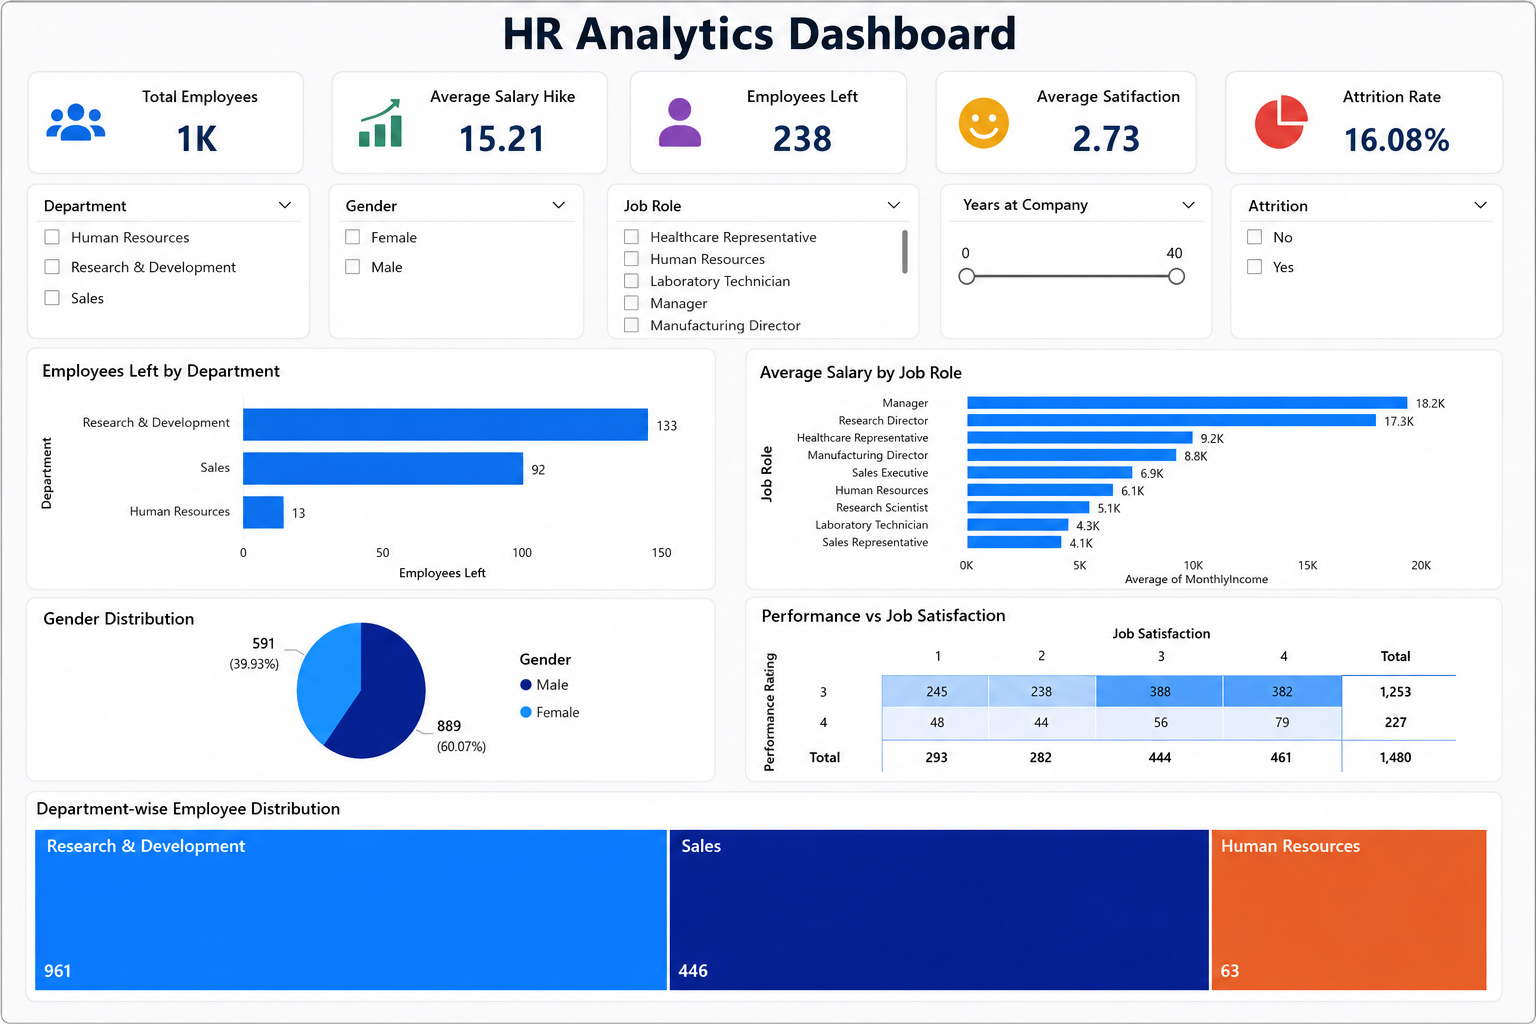

The dashboard page shown, as its layout file describes it:
{"tool":"powerbi","page":{"name":"Page 1","canvas":[1280,720],"ordinal":0},"visuals":[{"type":"cardVisual","fields":{"Data":["HR_Analytics.Total Employees"]},"box":[0,49.4,178.4,111.2],"z":0},{"type":"cardVisual","fields":{"Data":["HR_Analytics.Employees Left"]},"box":[496.8,35.7,167.4,151],"z":1000},{"type":"cardVisual","fields":{"Data":["HR_Analytics.Attrition Rate"]},"box":[1064.9,49.4,178.4,111.2],"z":2000},{"type":"cardVisual","fields":{"Data":["HR_Analytics.Average Salary Hike"]},"box":[233.3,24.7,201.7,161.9],"z":3000},{"type":"cardVisual","fields":{"Data":["HR_Analytics.Average Satisfaction"]},"box":[798.7,28.8,188,163.3],"z":4000},{"type":"clusteredBarChart","fields":{"Category":["HR_Analytics.Department"],"Y":["HR_Analytics.Employees Left"]},"box":[0,288.2,472.1,151],"z":5000},{"type":"pieChart","fields":{"Category":["HR_Analytics.Gender"],"Y":["Sum(HR_Analytics.EmployeeCount)"]},"box":[0,429.5,466.6,181.1],"z":6000},{"type":"pivotTable","fields":{"Rows":["HR_Analytics.PerformanceRating"],"Columns":["HR_Analytics.JobSatisfaction"],"Values":["Sum(HR_Analytics.EmployeeCount)"]},"box":[464.8,451.5,310.1,111.2],"z":7000},{"type":"treemap","fields":{"Values":["Sum(HR_Analytics.EmployeeCount)"],"Group":["HR_Analytics.Department"]},"box":[8.2,568.1,1272.1,152.3],"z":8000},{"type":"clusteredBarChart","fields":{"Y":["Avg(HR_Analytics.MonthlyIncome)"],"Category":["HR_Analytics.JobRole"]},"box":[775.4,274.5,505,288.2],"z":9000},{"type":"slicer","fields":{"Values":["HR_Analytics.Department"]},"box":[22,171.5,234.7,116.6],"z":10000},{"type":"slicer","fields":{"Values":["HR_Analytics.Gender"]},"box":[271.7,171.5,108.4,89.2],"z":11000},{"type":"slicer","fields":{"Values":["HR_Analytics.JobRole"]},"box":[462.5,160.6,234.7,289.6],"z":12000},{"type":"slicer","fields":{"Values":["HR_Analytics.YearsAtCompany"]},"box":[798.7,171.5,188,102.9],"z":13000},{"type":"slicer","fields":{"Values":["HR_Analytics.Attrition"]},"box":[1089.6,160.6,102.9,90.6],"z":14000},{"type":"textbox","box":[236,24.7,791.8,49.4],"z":14001}]}

Visuals, with their boxes on the page's 1280x720 design canvas (x1, y1, x2, y2). These are canvas units, not pixel positions in the 1536x1024 screenshot, which may show the page scaled, cropped or inside an application window:
cardVisual - HR_Analytics.Total Employees: bbox=(0, 49, 178, 161)
cardVisual - HR_Analytics.Employees Left: bbox=(497, 36, 664, 187)
cardVisual - HR_Analytics.Attrition Rate: bbox=(1065, 49, 1243, 161)
cardVisual - HR_Analytics.Average Salary Hike: bbox=(233, 25, 435, 187)
cardVisual - HR_Analytics.Average Satisfaction: bbox=(799, 29, 987, 192)
clusteredBarChart - HR_Analytics.Department x HR_Analytics.Employees Left: bbox=(0, 288, 472, 439)
pieChart - HR_Analytics.Gender x Sum(HR_Analytics.EmployeeCount): bbox=(0, 430, 467, 611)
pivotTable - HR_Analytics.PerformanceRating x HR_Analytics.JobSatisfaction: bbox=(465, 452, 775, 563)
treemap - Sum(HR_Analytics.EmployeeCount) x HR_Analytics.Department: bbox=(8, 568, 1280, 720)
clusteredBarChart - Avg(HR_Analytics.MonthlyIncome) x HR_Analytics.JobRole: bbox=(775, 274, 1280, 563)
slicer - HR_Analytics.Department: bbox=(22, 172, 257, 288)
slicer - HR_Analytics.Gender: bbox=(272, 172, 380, 261)
slicer - HR_Analytics.JobRole: bbox=(462, 161, 697, 450)
slicer - HR_Analytics.YearsAtCompany: bbox=(799, 172, 987, 274)
slicer - HR_Analytics.Attrition: bbox=(1090, 161, 1192, 251)
textbox: bbox=(236, 25, 1028, 74)
